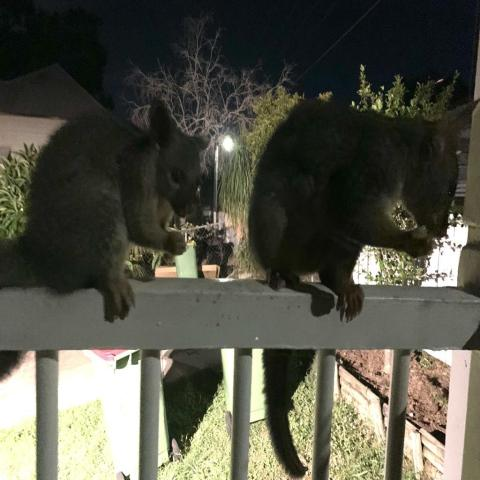small_animal: (246, 96, 478, 475), (1, 98, 211, 322)
